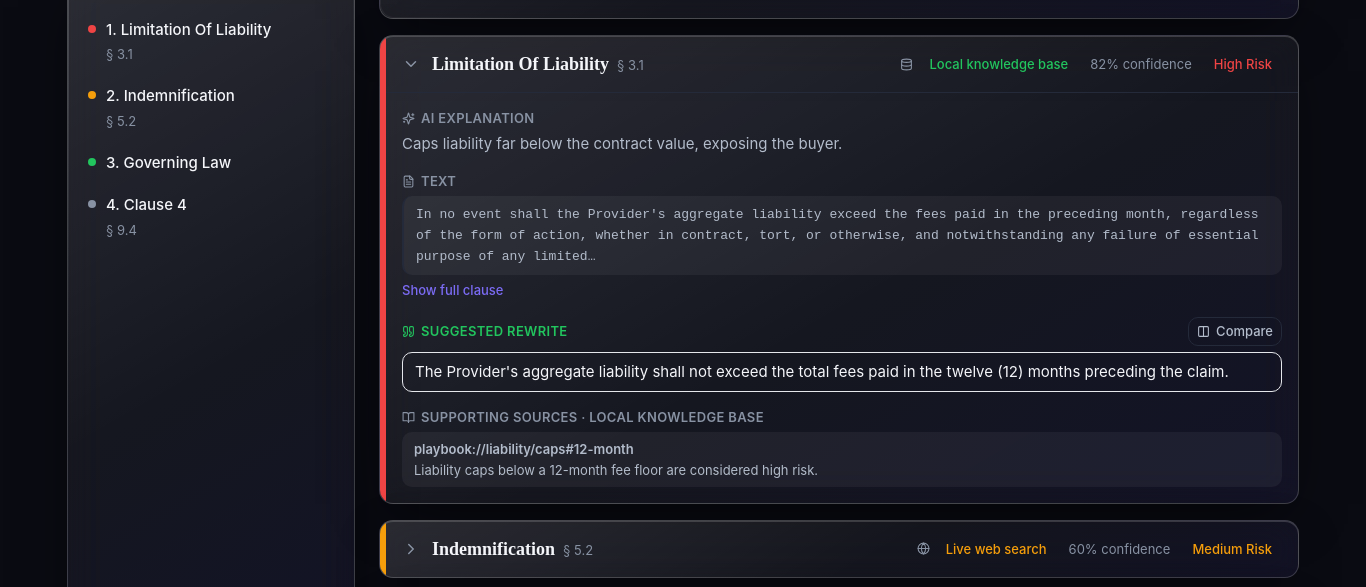
Test: Analysis Workspace (spec 022 AC-1,3,4,6,7,8,11) › compare_shows_before_and_after_for_a_rewritten_clause
This screenshot has width=1366, height=587.
(page scrolled)
// finding 1 (rewritten) is default-open
Click the button "Compare" at (1235, 332), box [1188, 318, 1282, 346]
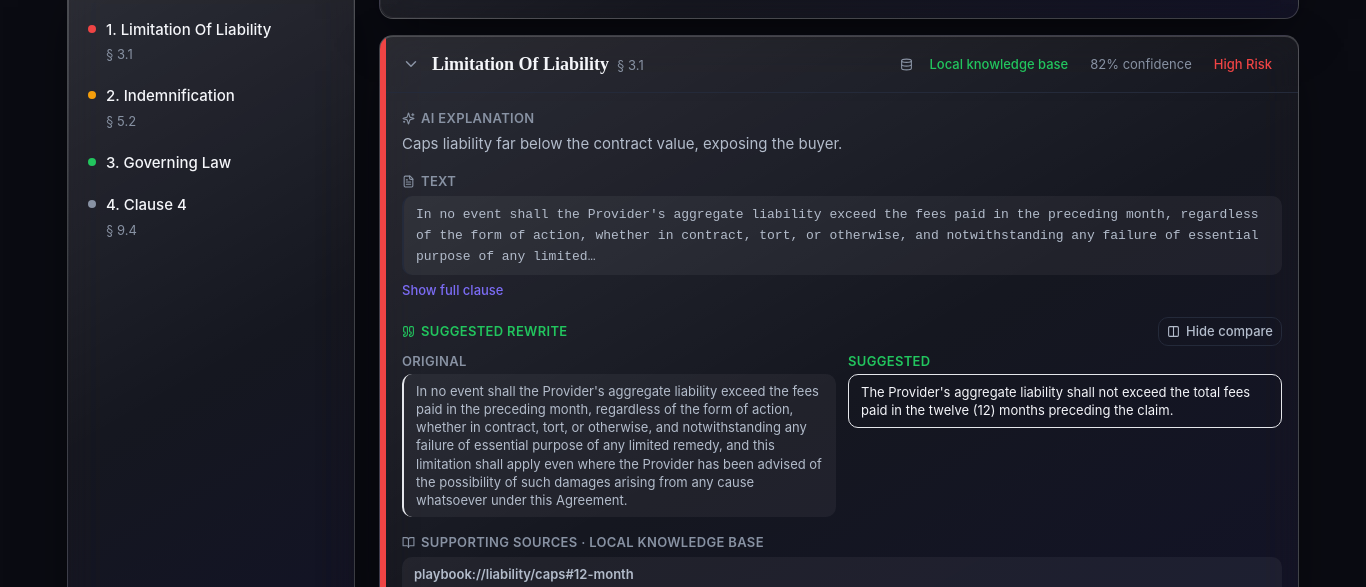
Check: the text "aggregate liability shall not exceed the total fees" is shown, box [861, 384, 1254, 418]
Check: the text "aggregate liability exceed the fees paid" is shown, box [416, 383, 826, 508]
